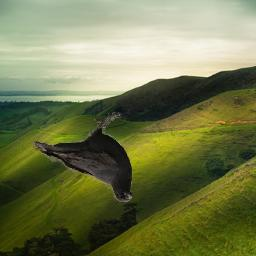Crow: (34, 112, 133, 202)
